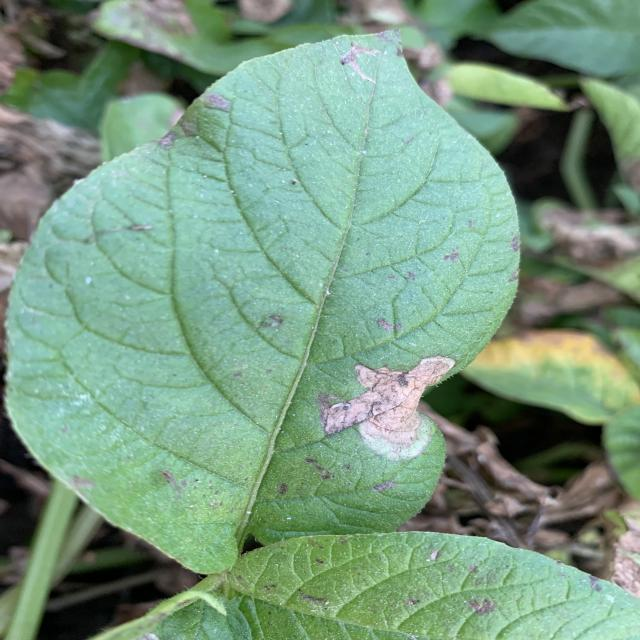lateblight: (320, 356, 455, 460), (488, 0, 638, 78)
